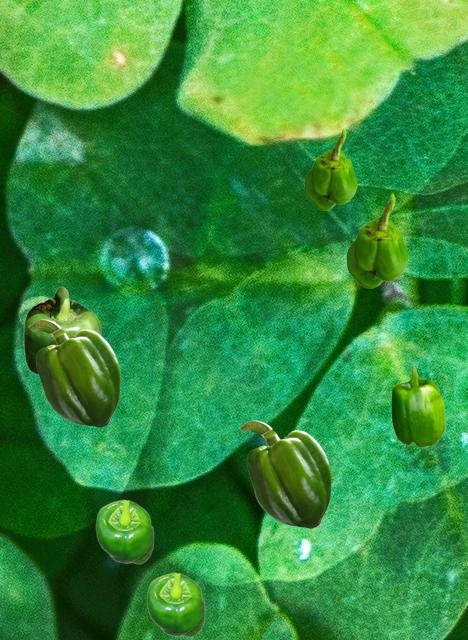bell_pepper: (28, 319, 119, 426), (239, 420, 330, 527), (23, 286, 100, 375), (346, 193, 407, 287), (391, 365, 444, 446), (304, 128, 356, 209), (95, 499, 153, 563), (146, 572, 204, 636)
